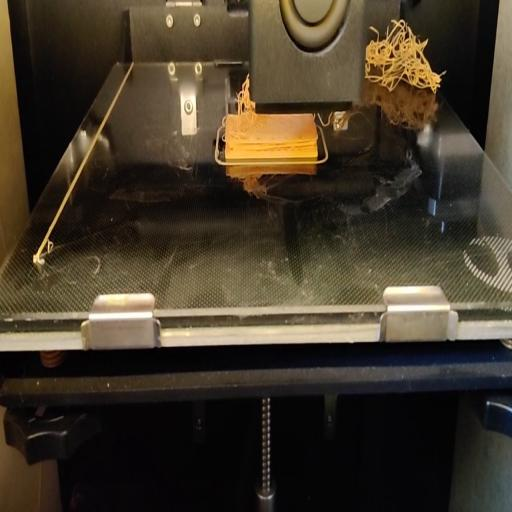spaghetti: (367, 16, 445, 96), (232, 79, 254, 129)
